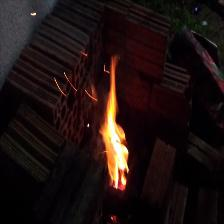fire: (95, 55, 133, 191)
